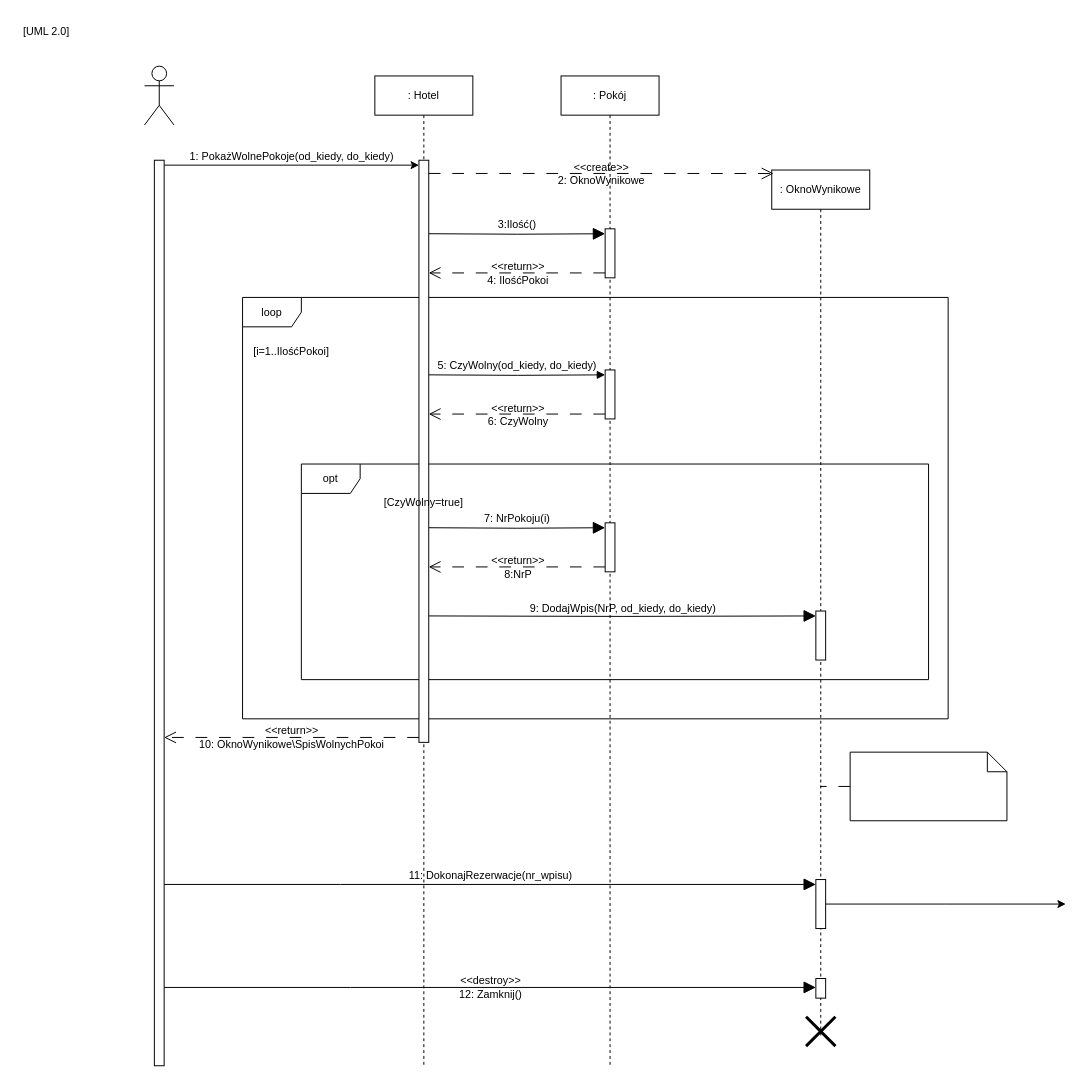
Image size: 1091x1083. Some labels were removed from this diagram. Here are the shapes that lost their labels. From the top down, the centre of each, then its label:
the point at 159,95: Recepcjonista
the point at 928,786: Recepcjonista wybiera odpowiedni wpis(nr_wpisu) i dokonuje rezerwacji
